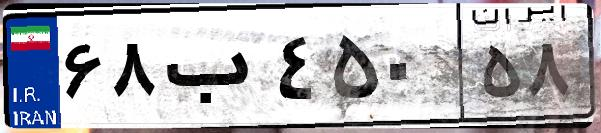0: (385, 28, 445, 110)
4: (270, 28, 330, 110)
5: (330, 28, 385, 110), (475, 38, 525, 113)
6: (57, 26, 110, 100)
8: (525, 38, 570, 115), (110, 28, 158, 98)
ب: (158, 20, 270, 120)
